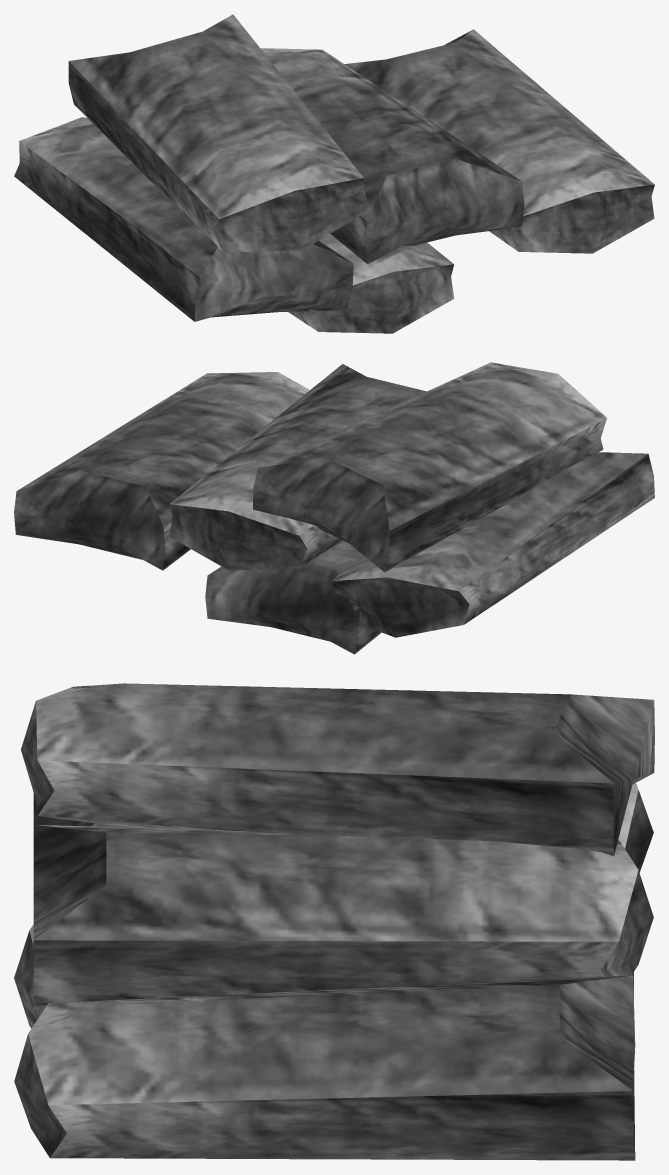
The model's file is sack02.glb.
The picture shows the model from 3 angles, top to bottom: view 1: azimuth 30°, elevation 25°; view 2: azimuth 150°, elevation 25°; view 3: azimuth 270°, elevation 25°; orthographic projection. The views are drawn at different scales.
Parts seen in each view (by area): view 1: _sack02; view 2: _sack02; view 3: _sack02.
Boxes of the visible parts, x1,y1,x2,y2 form: _sack02: [14, 14, 654, 333]; _sack02: [14, 362, 654, 654]; _sack02: [14, 683, 654, 1160].
Size of the model in its own units: 1.06 by 0.4021 by 0.8026.
Materials: 1 (1 with a texture image).
